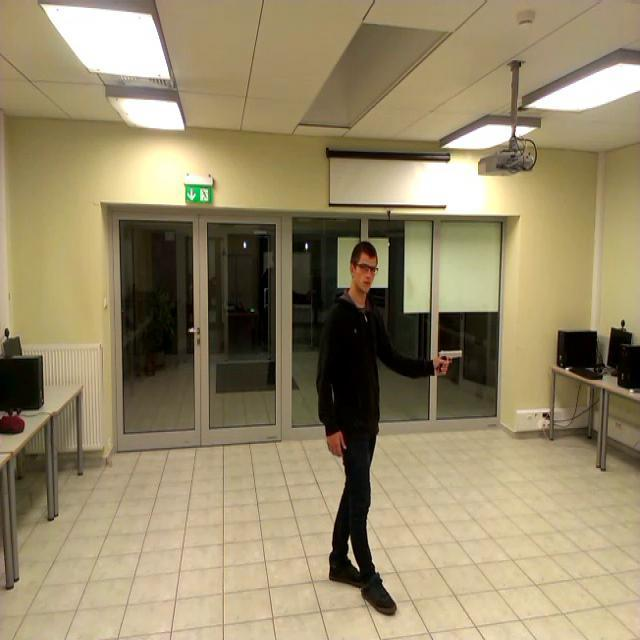Gun: (438, 348, 464, 373)
